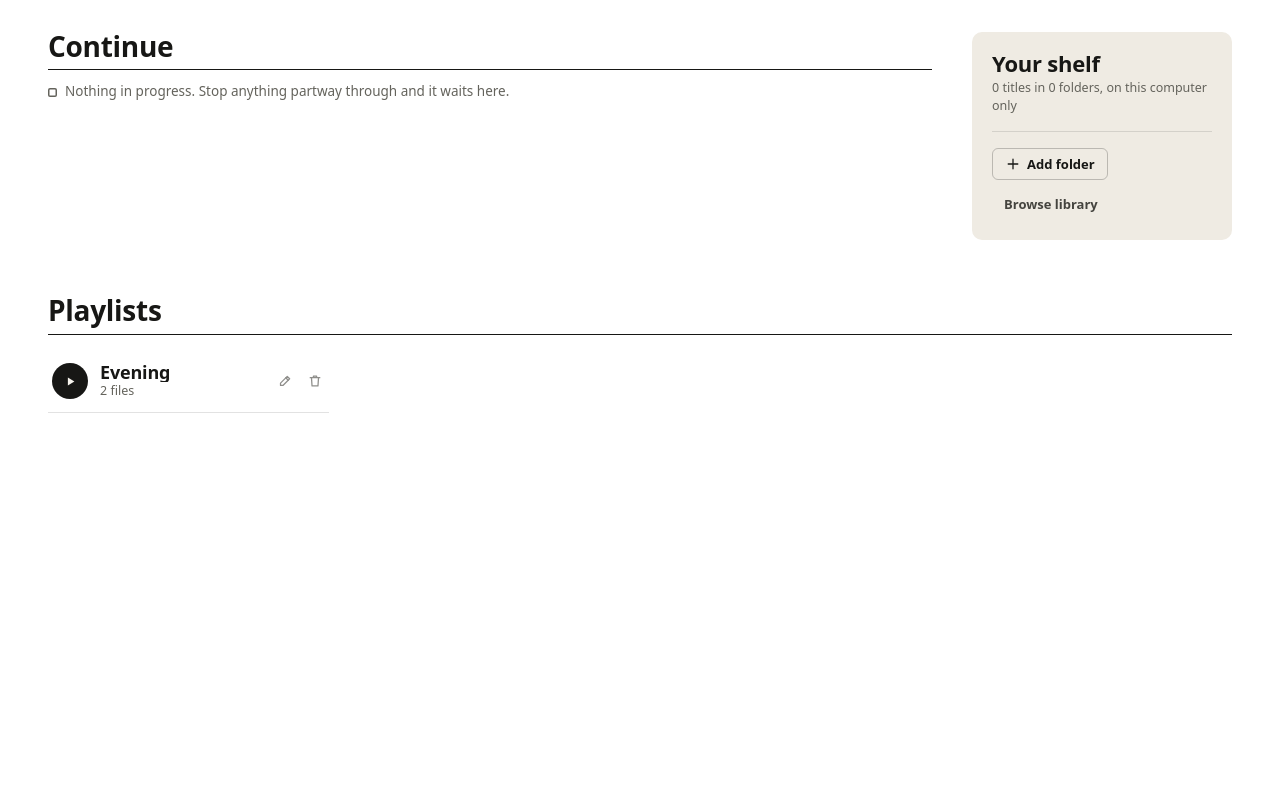
Test: HomeView › renames a playlist and keeps the dialog open with the reason when it fails
Click the button named "Rename playlist Evening" at {"x": 285, "y": 381}, box [271,367,299,395]
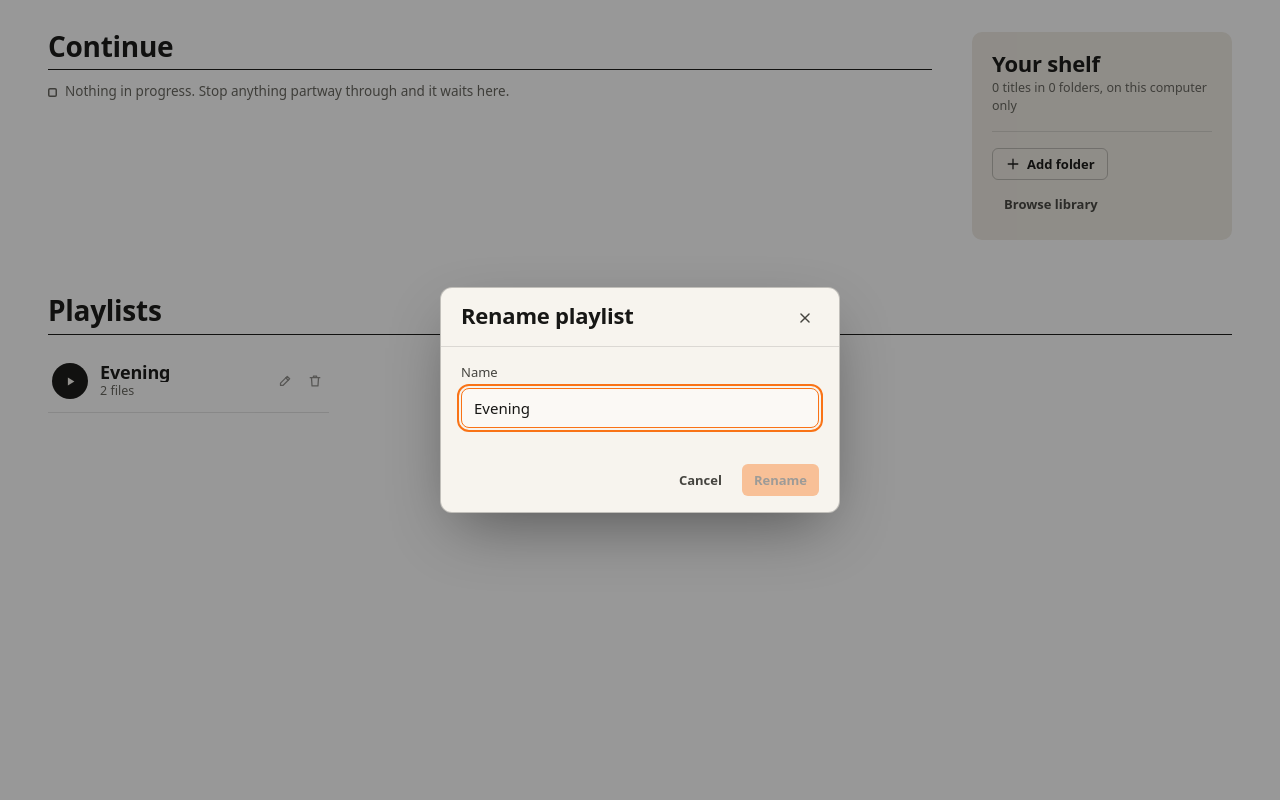
expect the field labelled "Name" holds "Evening": met
expect the button "Rename" is disabled: met, box [742,464,819,496]
Replace the text in the field labelled "Name" with "  Late night  " at {"x": 640, "y": 408}, box [461,388,819,428]
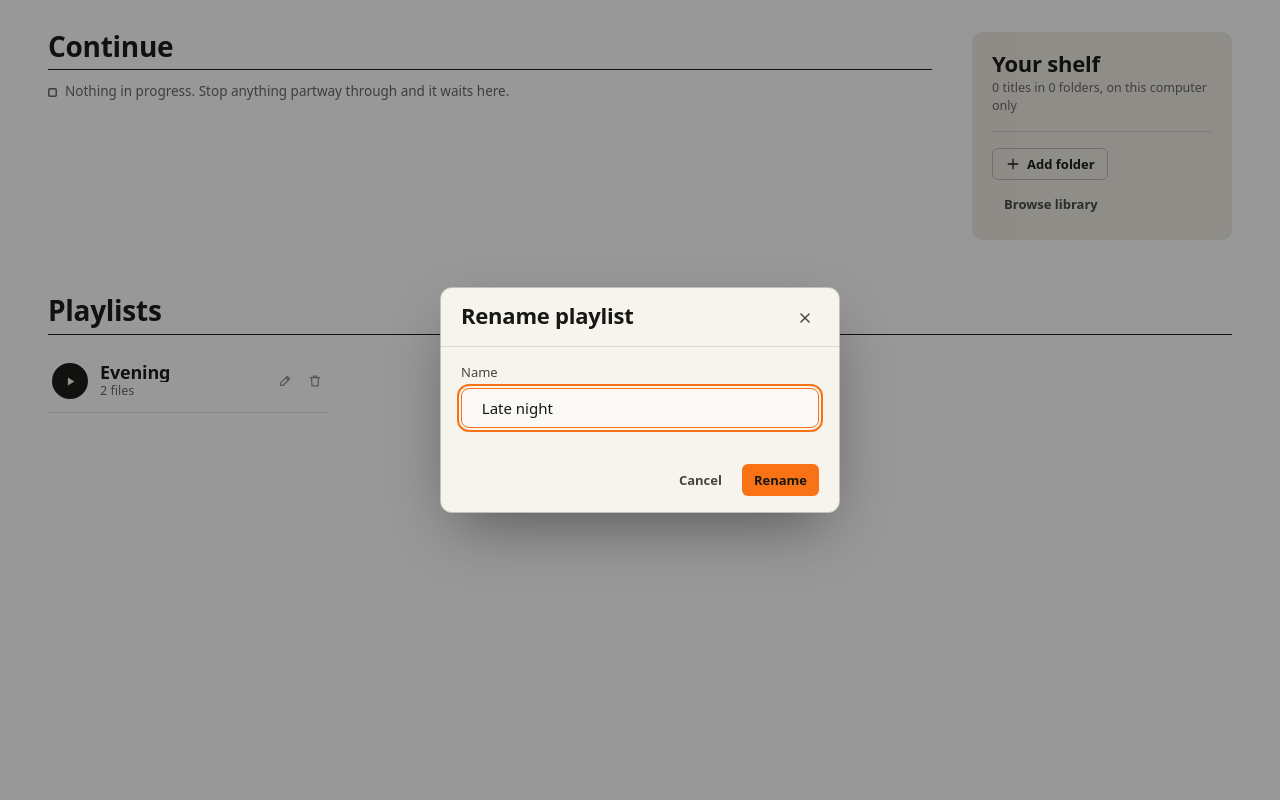
Click the button "Rename" at {"x": 780, "y": 480}, box [742,464,819,496]
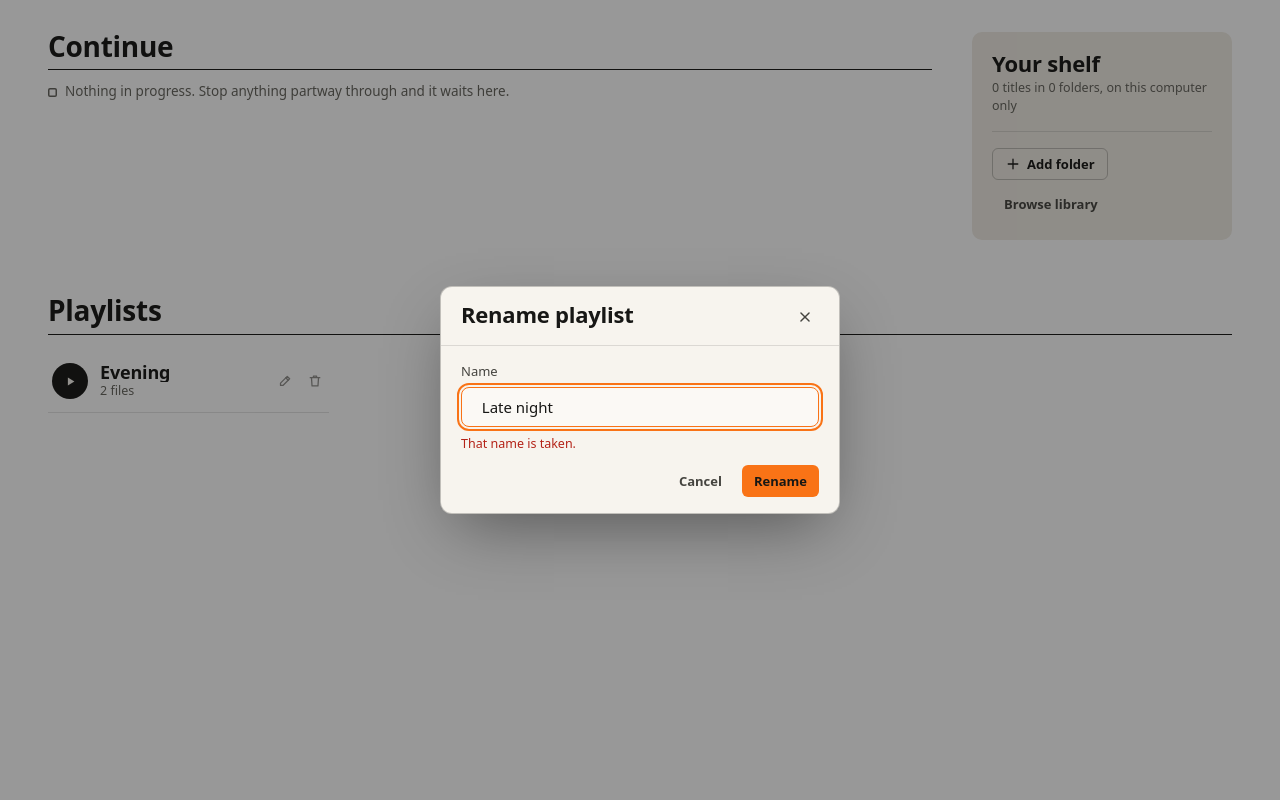
expect the text "That name is taken." is shown: met, box [461,435,576,452]
Click the button "Rename" at {"x": 780, "y": 481}, box [742,465,819,497]
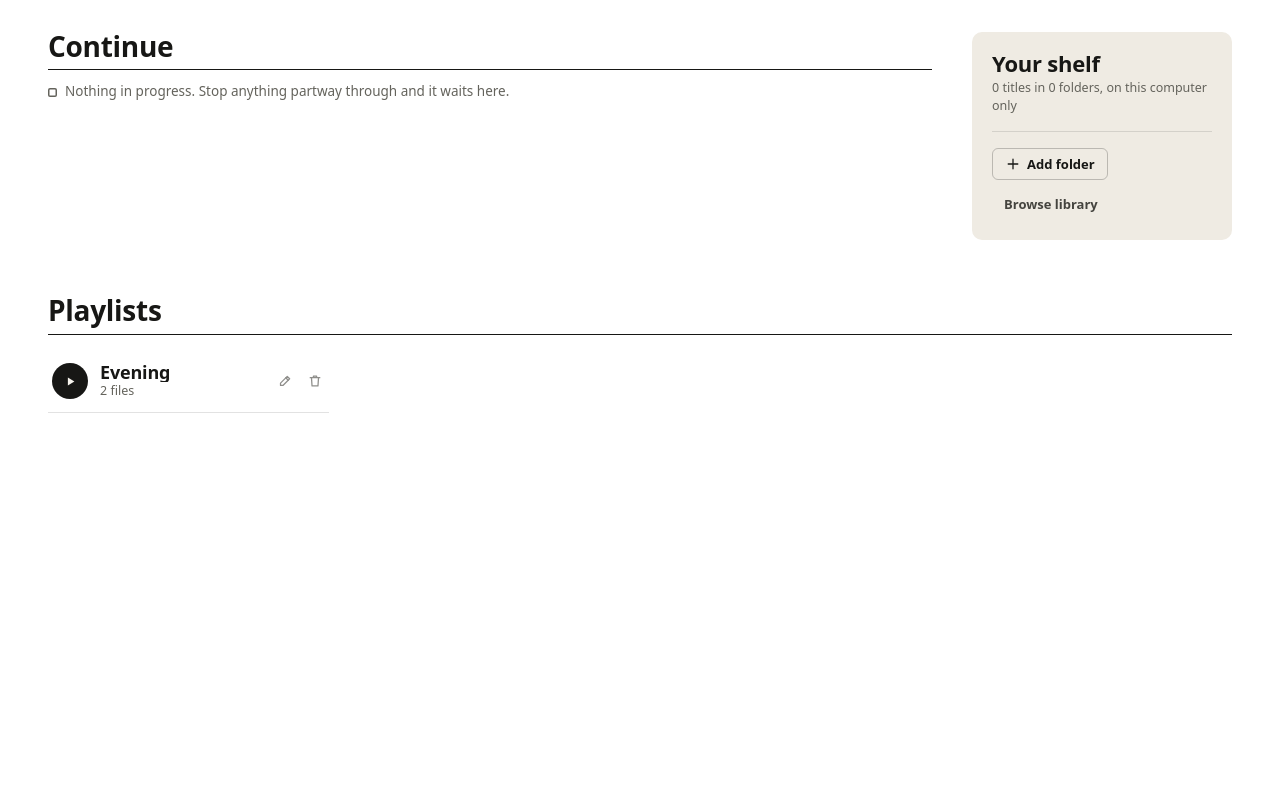
expect the heading "name" is gone: met
